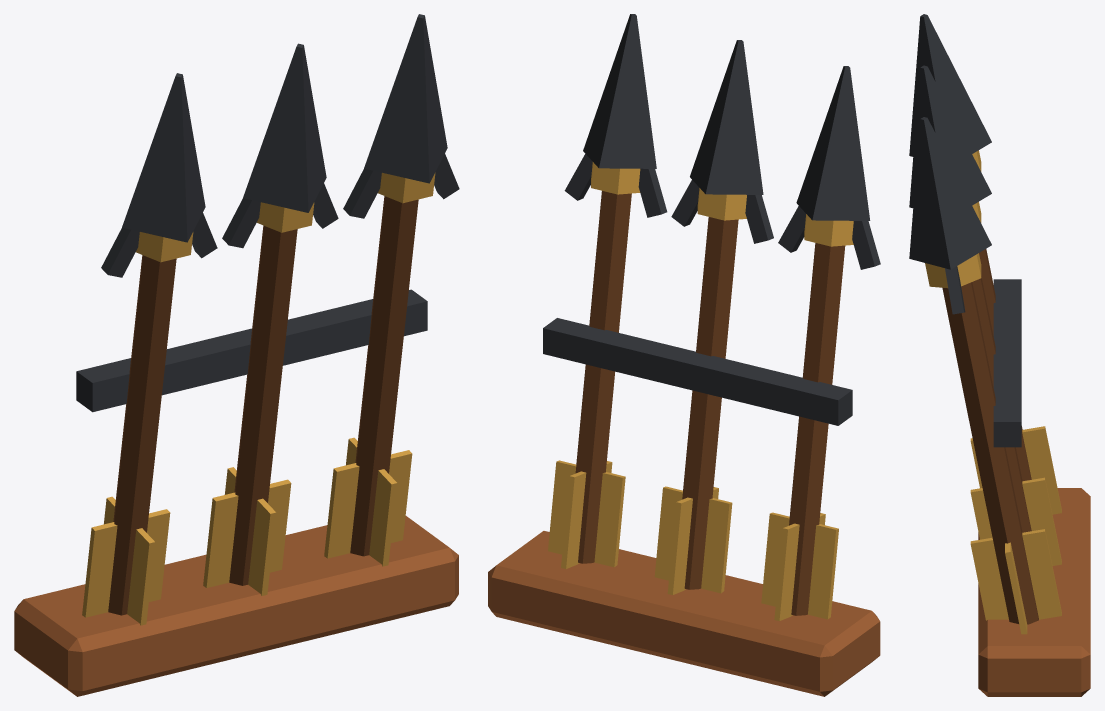
Rendered from HarpoonKit4.obj.
The picture shows the model from 3 angles, left to right: view 1: azimuth 30°, elevation 25°; view 2: azimuth 150°, elevation 25°; view 3: azimuth 270°, elevation 25°; orthographic projection. The views are drawn at different scales.
Visible parts, largest first — view 1: HarpoonKit4; view 2: HarpoonKit4; view 3: HarpoonKit4.
Part boxes in pixels (bbox=[...]): HarpoonKit4: bbox=[14, 14, 459, 696]; HarpoonKit4: bbox=[488, 14, 880, 696]; HarpoonKit4: bbox=[909, 14, 1090, 696].
Bounding box in the file's own units: 0.42 × 0.6501 × 0.1938.
